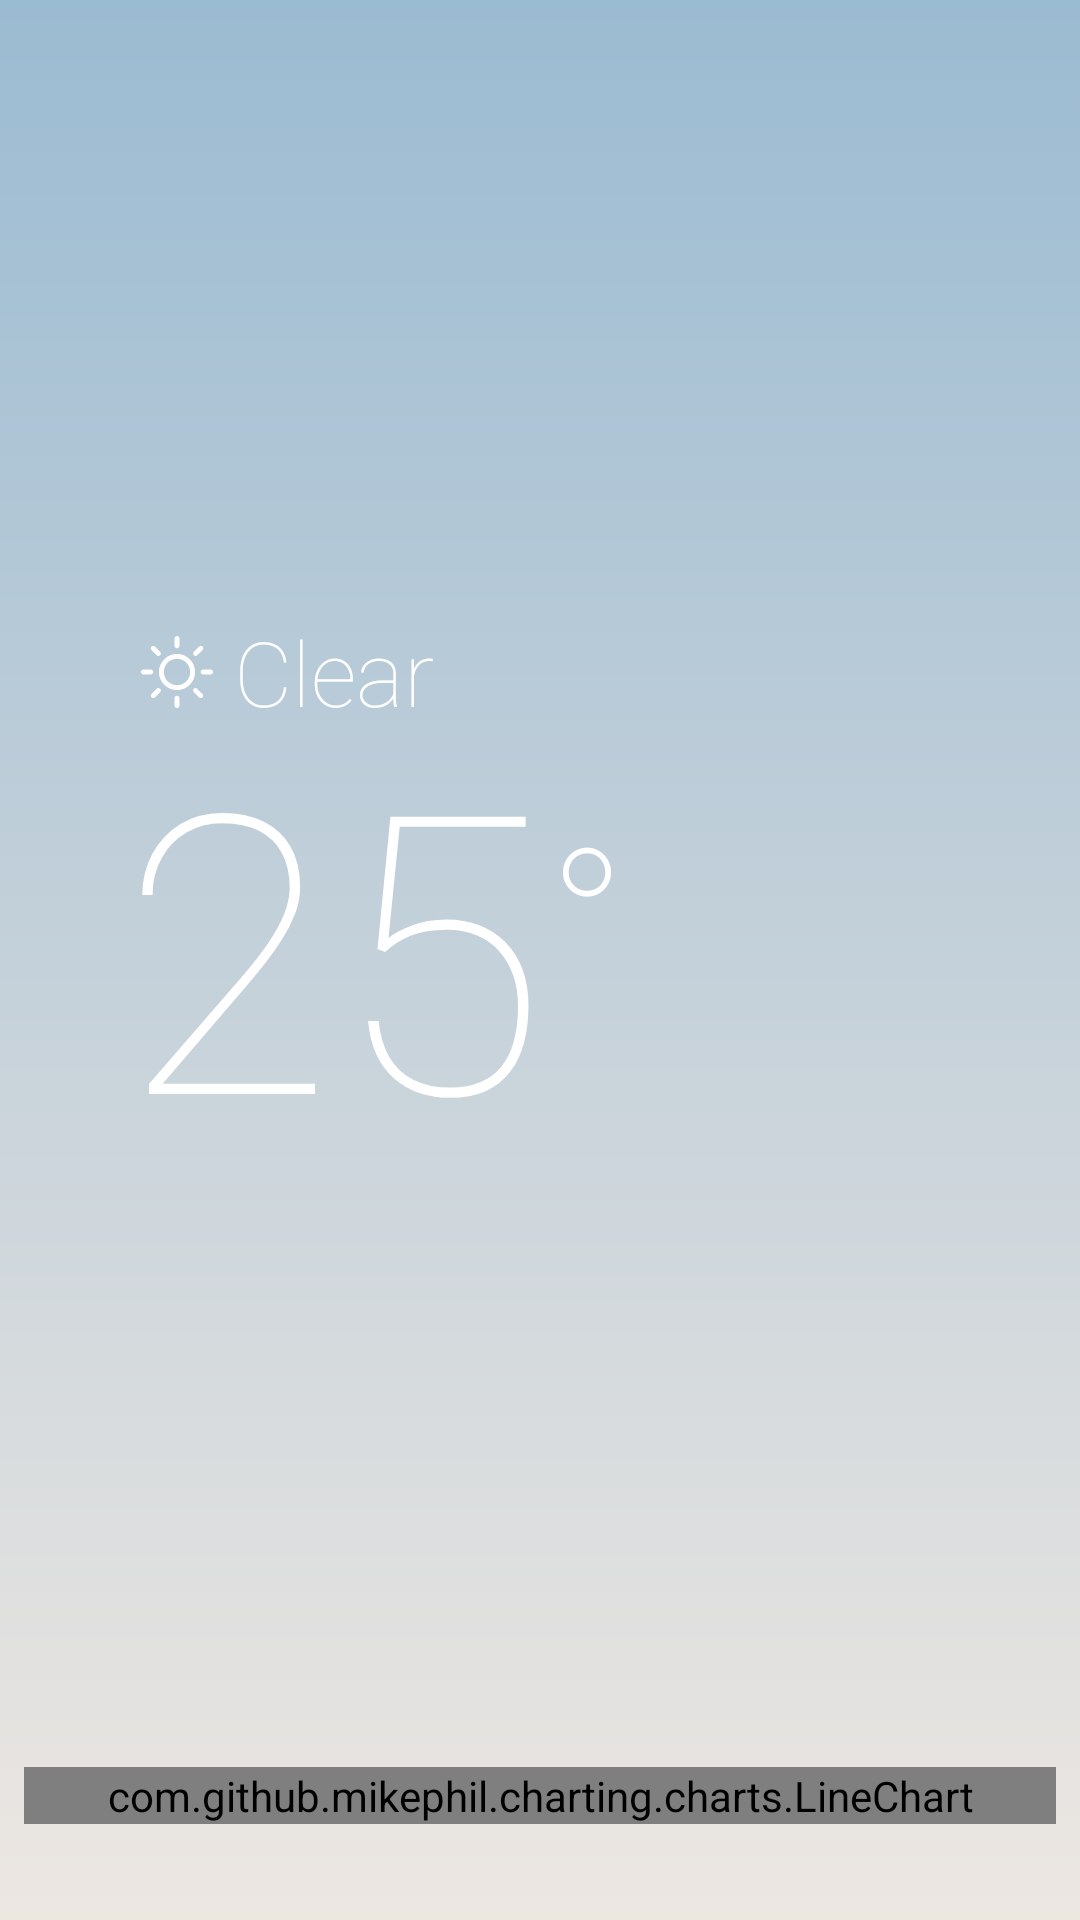

Where icons sit on this 1080px x 1920px app screen, as (x1, y1, x2, y2):
sun: (141, 636, 213, 708)
